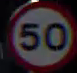Speed limit: (5, 1, 75, 68)
